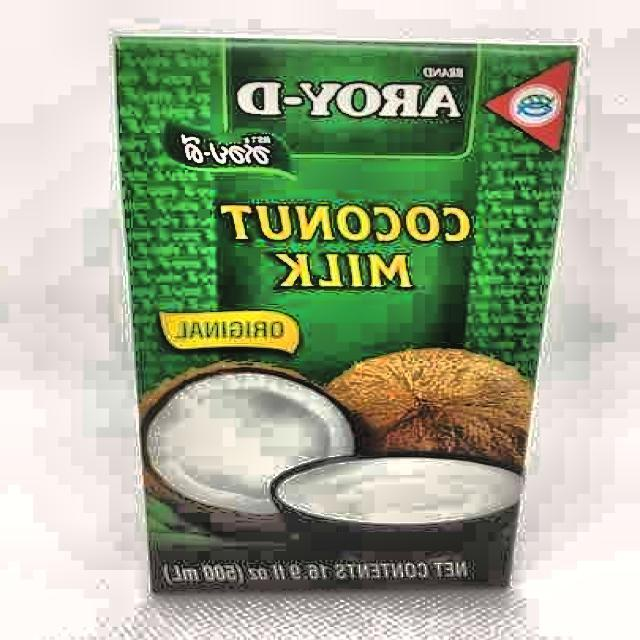cardboard: (112, 34, 582, 594)
